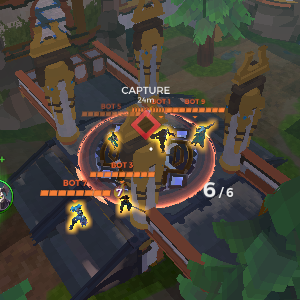model: (191, 120, 218, 153), (66, 205, 90, 234), (150, 125, 173, 155), (118, 195, 140, 215), (107, 131, 124, 154)
